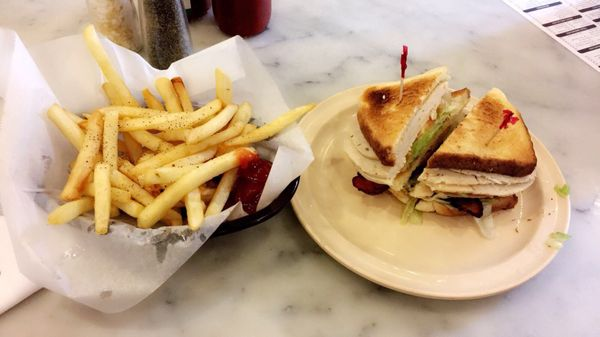pizza: (211, 0, 272, 38)
soup: (349, 79, 540, 217), (343, 58, 474, 199), (406, 86, 539, 218)
